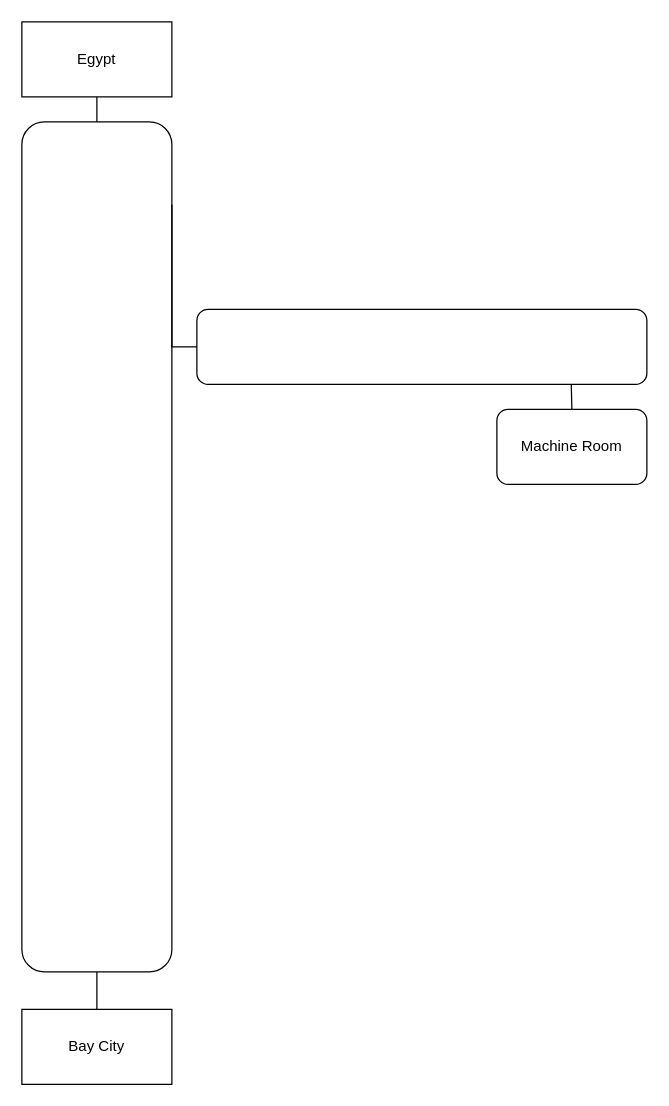
Some shapes in this 669 by 1106 pixel diagram are drawn without their labels. Here are the shapes that lost their labels. From the top down, the box of each, then its label:
(196, 308, 647, 384): Maintenance Tunnel
(21, 121, 172, 972): Tunnel
